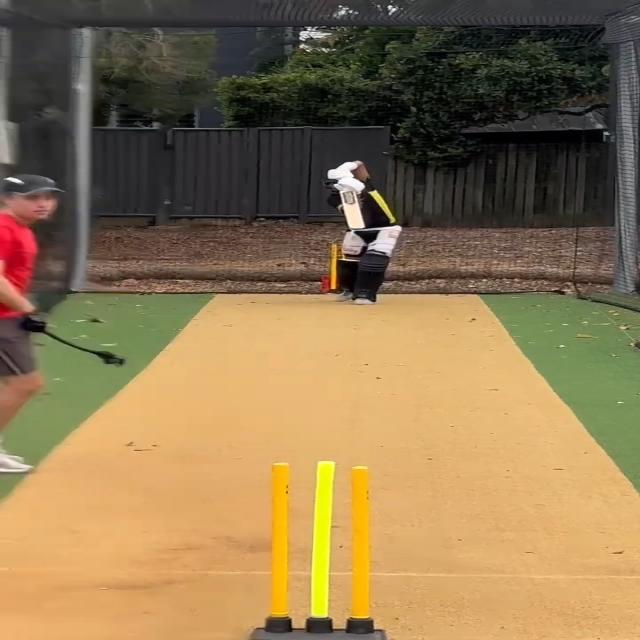stump: (256, 459, 389, 640)
